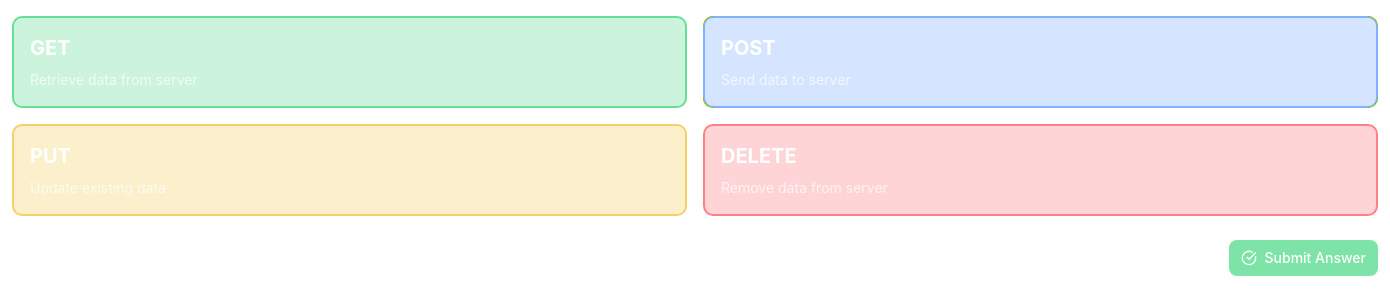
SelectMethod › submission › enables submit button when option selected
The image size is (1390, 293).
Click the button "GET Retrieve data from server" at (50, 48), box top-left (12, 16), bottom-right (687, 108)
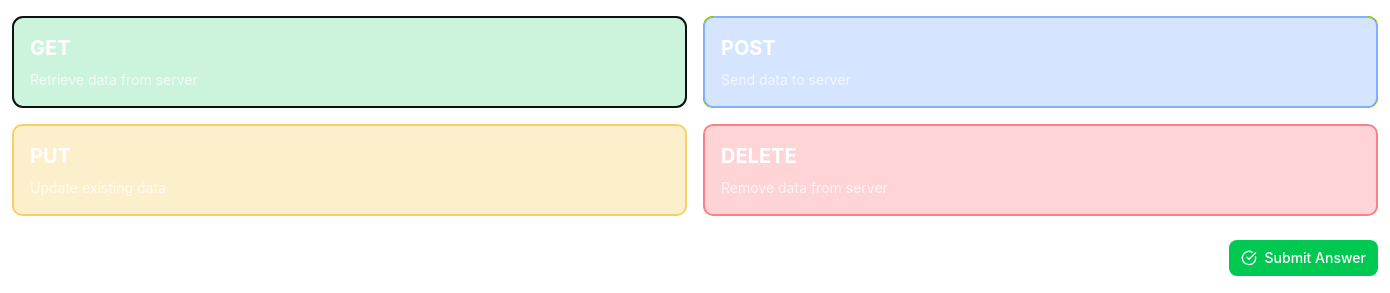
expect the button "Submit Answer" is enabled: met, box top-left (1228, 240), bottom-right (1378, 276)
